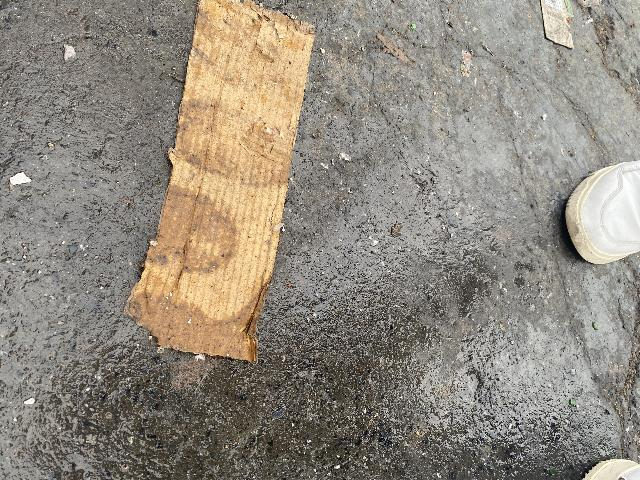Kagit: (119, 3, 317, 366), (538, 0, 577, 50)
